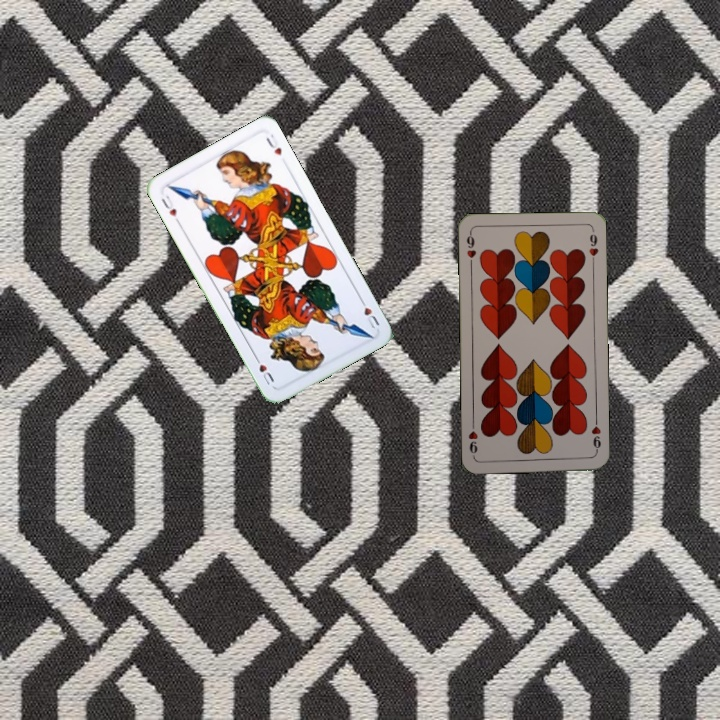H9: (462, 228, 478, 269), (588, 415, 603, 456)
HU: (356, 294, 382, 331), (157, 191, 182, 226)
